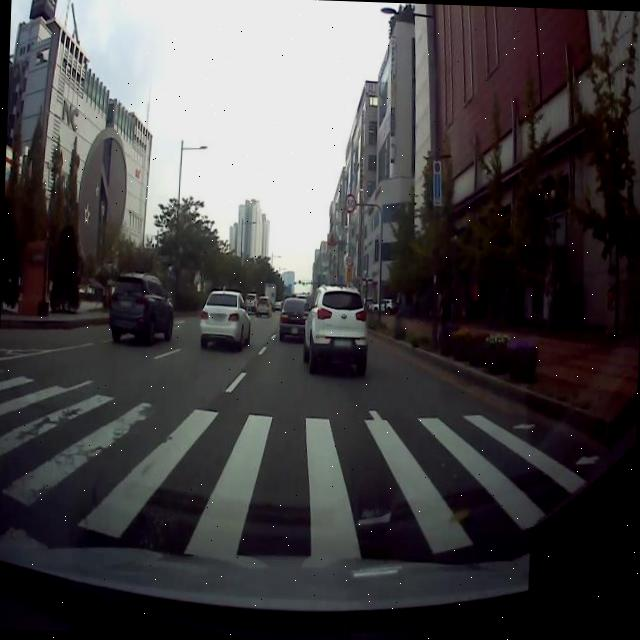crosswalk: (0, 366, 603, 560)
